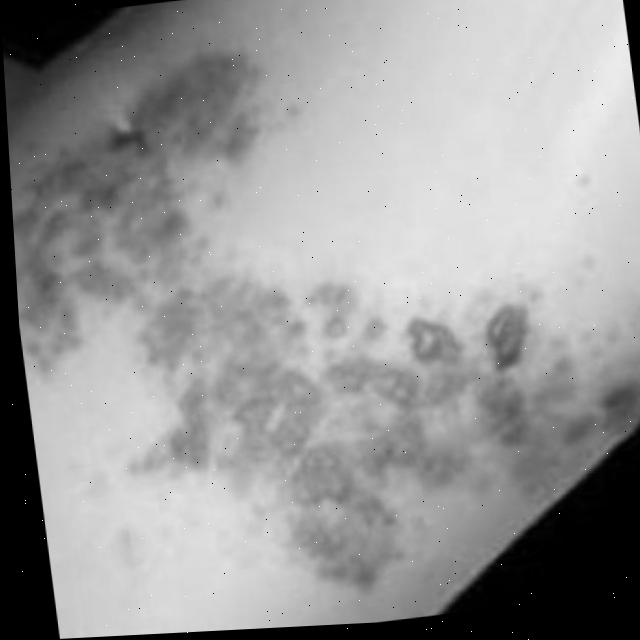Shingles: (2, 2, 640, 622)
